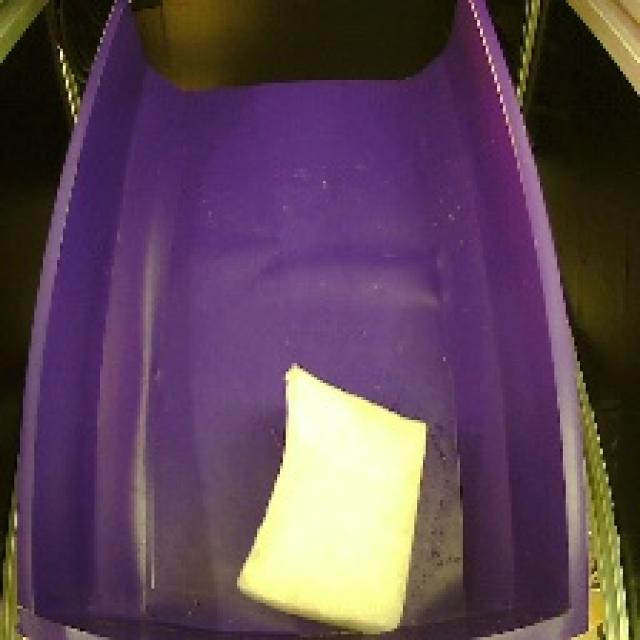white_radish: (220, 348, 463, 640)
